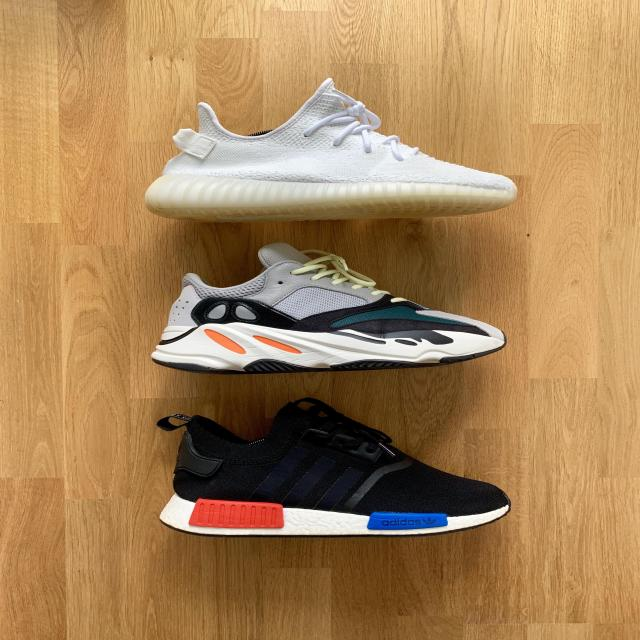shoe: (107, 76, 542, 226), (132, 384, 527, 546), (117, 245, 519, 382)
